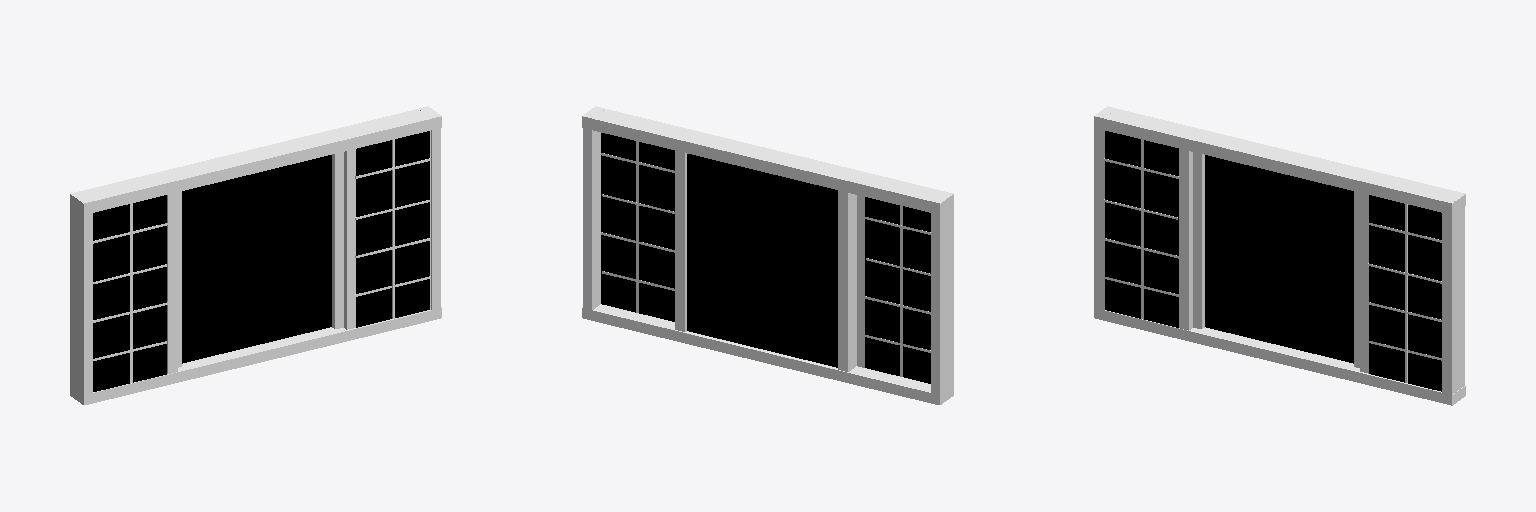
The model's file is DianaWindow.obj.
3 renders of one model, left to right at view 1: azimuth 30°, elevation 25°; view 2: azimuth 150°, elevation 25°; view 3: azimuth 330°, elevation 25°, orthographic.
Visible parts, largest first — view 1: sweethome3d_window_pane1, sweethome3d_window_pane3, sweethome3d_window_pane2, Cube_3_2, Cube_3_1, Cube_3_3, Cube_5_2, Cube_5_1, Cube_3_4, Cube_5_4, Cube_5, Cube_6_1 (+1 smaller); view 2: sweethome3d_window_pane1, sweethome3d_window_pane2, sweethome3d_window_pane3, Cube_3_2, Cube_3_1, Cube_3_3, Cube_3_4, Cube_5, Cube_5_1, Cube_5_4; view 3: sweethome3d_window_pane1, sweethome3d_window_pane3, sweethome3d_window_pane2, Cube_3_2, Cube_3_1, Cube_3_4, Cube_5_4, Cube_5, Cube_3_3, Cube_5_2, Cube_5_1, Cube_5_3 (+2 smaller).
Boxes of the visible parts, <box> form: sweethome3d_window_pane1: <box>182,155,331,363</box>; sweethome3d_window_pane3: <box>93,195,166,391</box>; sweethome3d_window_pane2: <box>356,131,429,327</box>; Cube_3_2: <box>80,106,441,214</box>; Cube_3_1: <box>85,307,441,404</box>; Cube_3_3: <box>70,191,92,404</box>; Cube_5_2: <box>344,149,355,329</box>; Cube_5_1: <box>332,152,343,328</box>; Cube_3_4: <box>419,106,440,318</box>; Cube_5_4: <box>167,192,177,373</box>; Cube_5: <box>178,191,181,367</box>; Cube_6_1: <box>130,203,132,383</box>; sweethome3d_window_pane1: <box>687,154,837,367</box>; sweethome3d_window_pane2: <box>601,133,674,321</box>; sweethome3d_window_pane3: <box>865,197,930,383</box>; Cube_3_2: <box>582,106,943,214</box>; Cube_3_1: <box>582,304,938,404</box>; Cube_3_3: <box>931,191,953,404</box>; Cube_3_4: <box>583,106,604,319</box>; Cube_5: <box>838,190,856,371</box>; Cube_5_1: <box>675,151,686,331</box>; Cube_5_4: <box>857,195,864,367</box>; sweethome3d_window_pane1: <box>1205,155,1353,363</box>; sweethome3d_window_pane3: <box>1105,131,1178,327</box>; sweethome3d_window_pane2: <box>1369,195,1441,391</box>; Cube_3_2: <box>1095,109,1465,214</box>; Cube_3_1: <box>1095,308,1465,405</box>; Cube_3_4: <box>1442,191,1464,394</box>; Cube_5_4: <box>1179,149,1192,330</box>; Cube_5: <box>1193,152,1204,328</box>; Cube_3_3: <box>1094,106,1116,317</box>; Cube_5_2: <box>1360,193,1368,373</box>; Cube_5_1: <box>1354,191,1359,367</box>; Cube_5_3: <box>1453,212,1456,393</box>.
Bounding box in the file's own units: 4.46 × 2.41 × 0.2933.